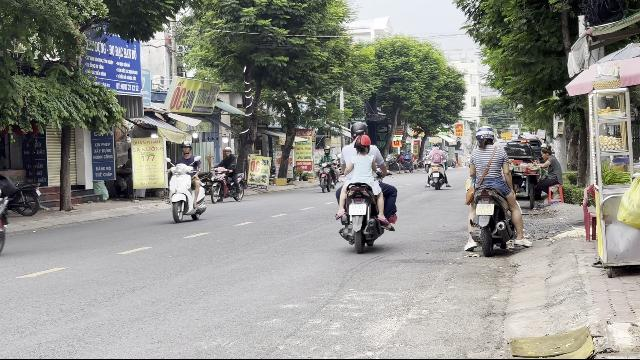helmet: (475, 126, 495, 146), (354, 134, 372, 156), (350, 121, 368, 136), (180, 141, 192, 155)
licenseplate: (349, 205, 366, 216), (476, 204, 494, 214)
motorcyclist: (332, 120, 398, 252), (461, 124, 525, 256), (166, 141, 207, 223)
